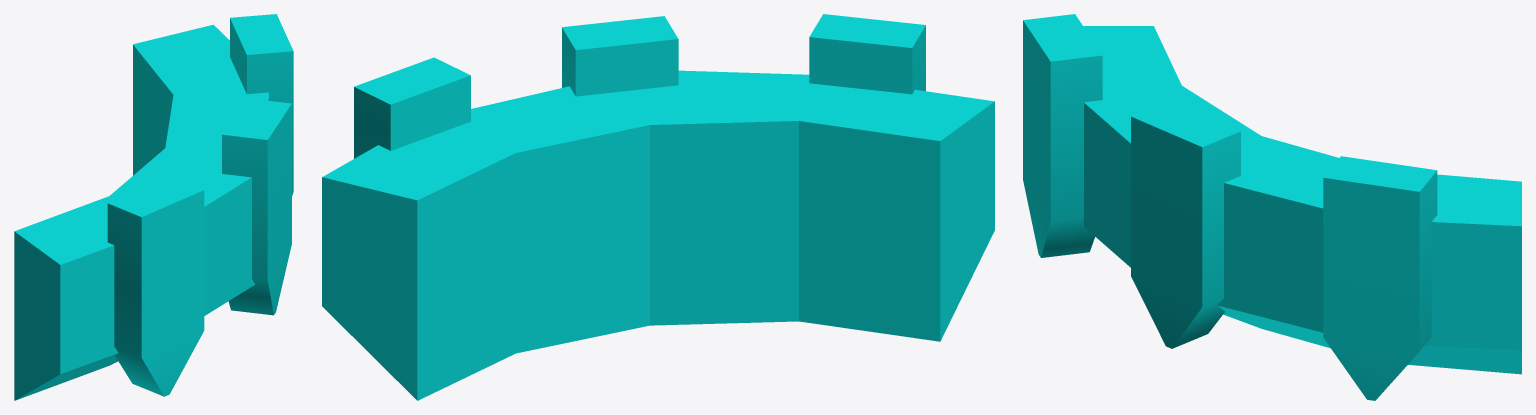
The model's file is SM_Bld_Battlements_Curve_01_Collision.fbx.
3 renders of one model, left to right at view 1: azimuth 30°, elevation 25°; view 2: azimuth 150°, elevation 25°; view 3: azimuth 270°, elevation 25°, orthographic. The views are drawn at different scales.
Parts seen in each view (by area): view 1: SM_Bld_Battlements_Curve_01_Collision; view 2: SM_Bld_Battlements_Curve_01_Collision; view 3: SM_Bld_Battlements_Curve_01_Collision.
Part boxes in pixels (<box>): SM_Bld_Battlements_Curve_01_Collision: <box>14,14,293,400</box>; SM_Bld_Battlements_Curve_01_Collision: <box>322,14,994,400</box>; SM_Bld_Battlements_Curve_01_Collision: <box>1023,14,1521,400</box>.
Bounding box in the file's own units: 363 × 191 × 364.
